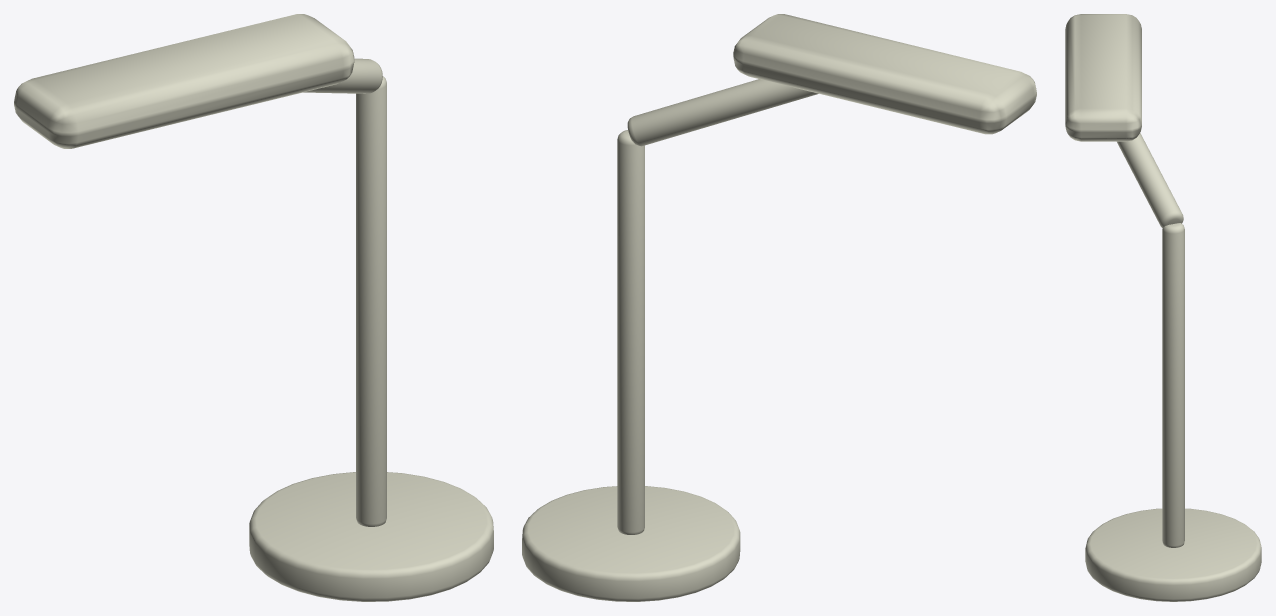
File: urban-study-lamp-v1.glb
3 renders of one model, left to right at view 1: azimuth 30°, elevation 25°; view 2: azimuth 150°, elevation 25°; view 3: azimuth 270°, elevation 25°, orthographic. The views are drawn at different scales.
Parts seen in each view (by area): view 1: Task light, Lamp foot, Lamp stem, Lamp hinge arm; view 2: Task light, Lamp foot, Lamp stem, Lamp hinge arm; view 3: Lamp foot, Task light, Lamp stem, Lamp hinge arm.
Boxes of the visible parts, x1,y1,x2,y2 form: Task light: (14, 14, 354, 148); Lamp foot: (249, 472, 493, 601); Lamp stem: (356, 76, 386, 526); Lamp hinge arm: (303, 58, 382, 93); Task light: (733, 14, 1036, 134); Lamp foot: (522, 486, 740, 601); Lamp stem: (617, 130, 644, 534); Lamp hinge arm: (627, 79, 818, 146); Lamp foot: (1085, 508, 1261, 601); Task light: (1065, 14, 1141, 141); Lamp stem: (1162, 223, 1184, 547); Lamp hinge arm: (1117, 133, 1183, 227).
Bounding box in the file's own units: 0.293 × 0.3325 × 0.1405.
Materials: 1 (1 with a texture image).
